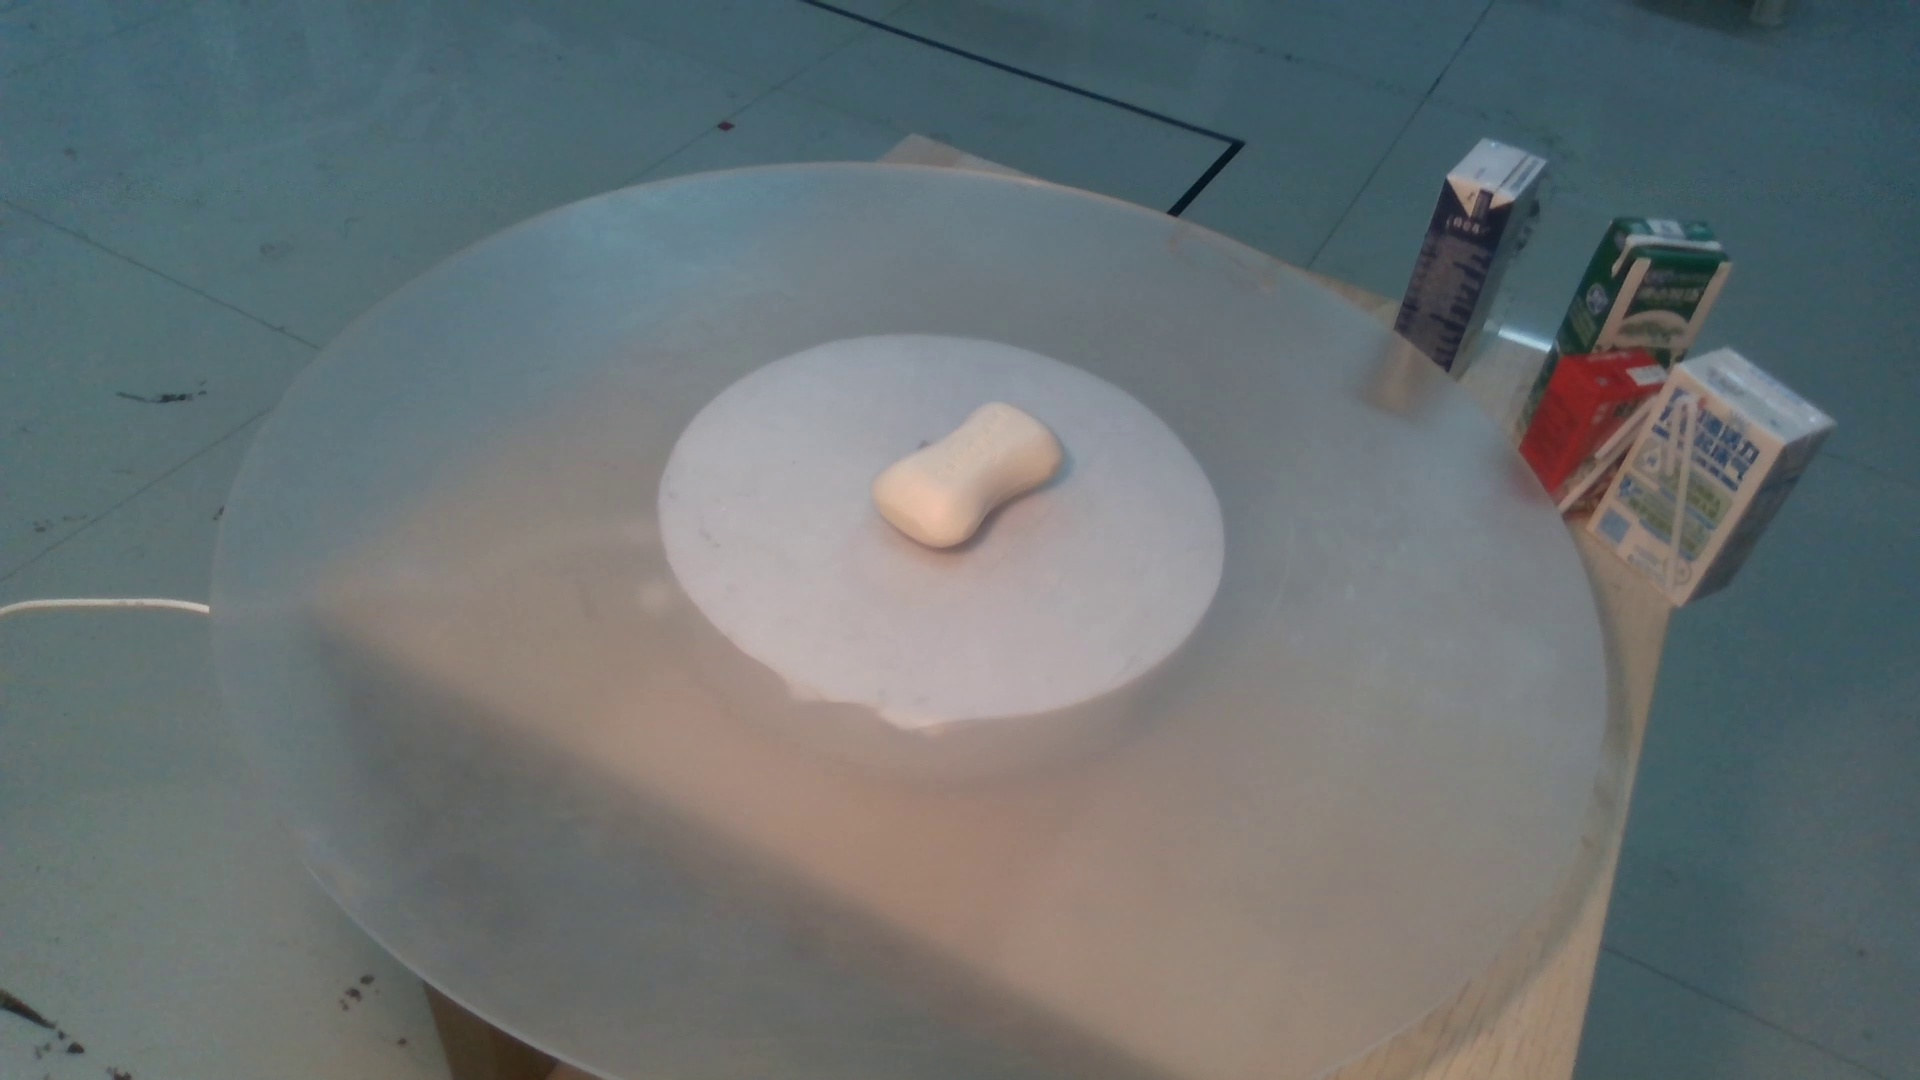CA003_1: (860, 385, 1106, 560)
